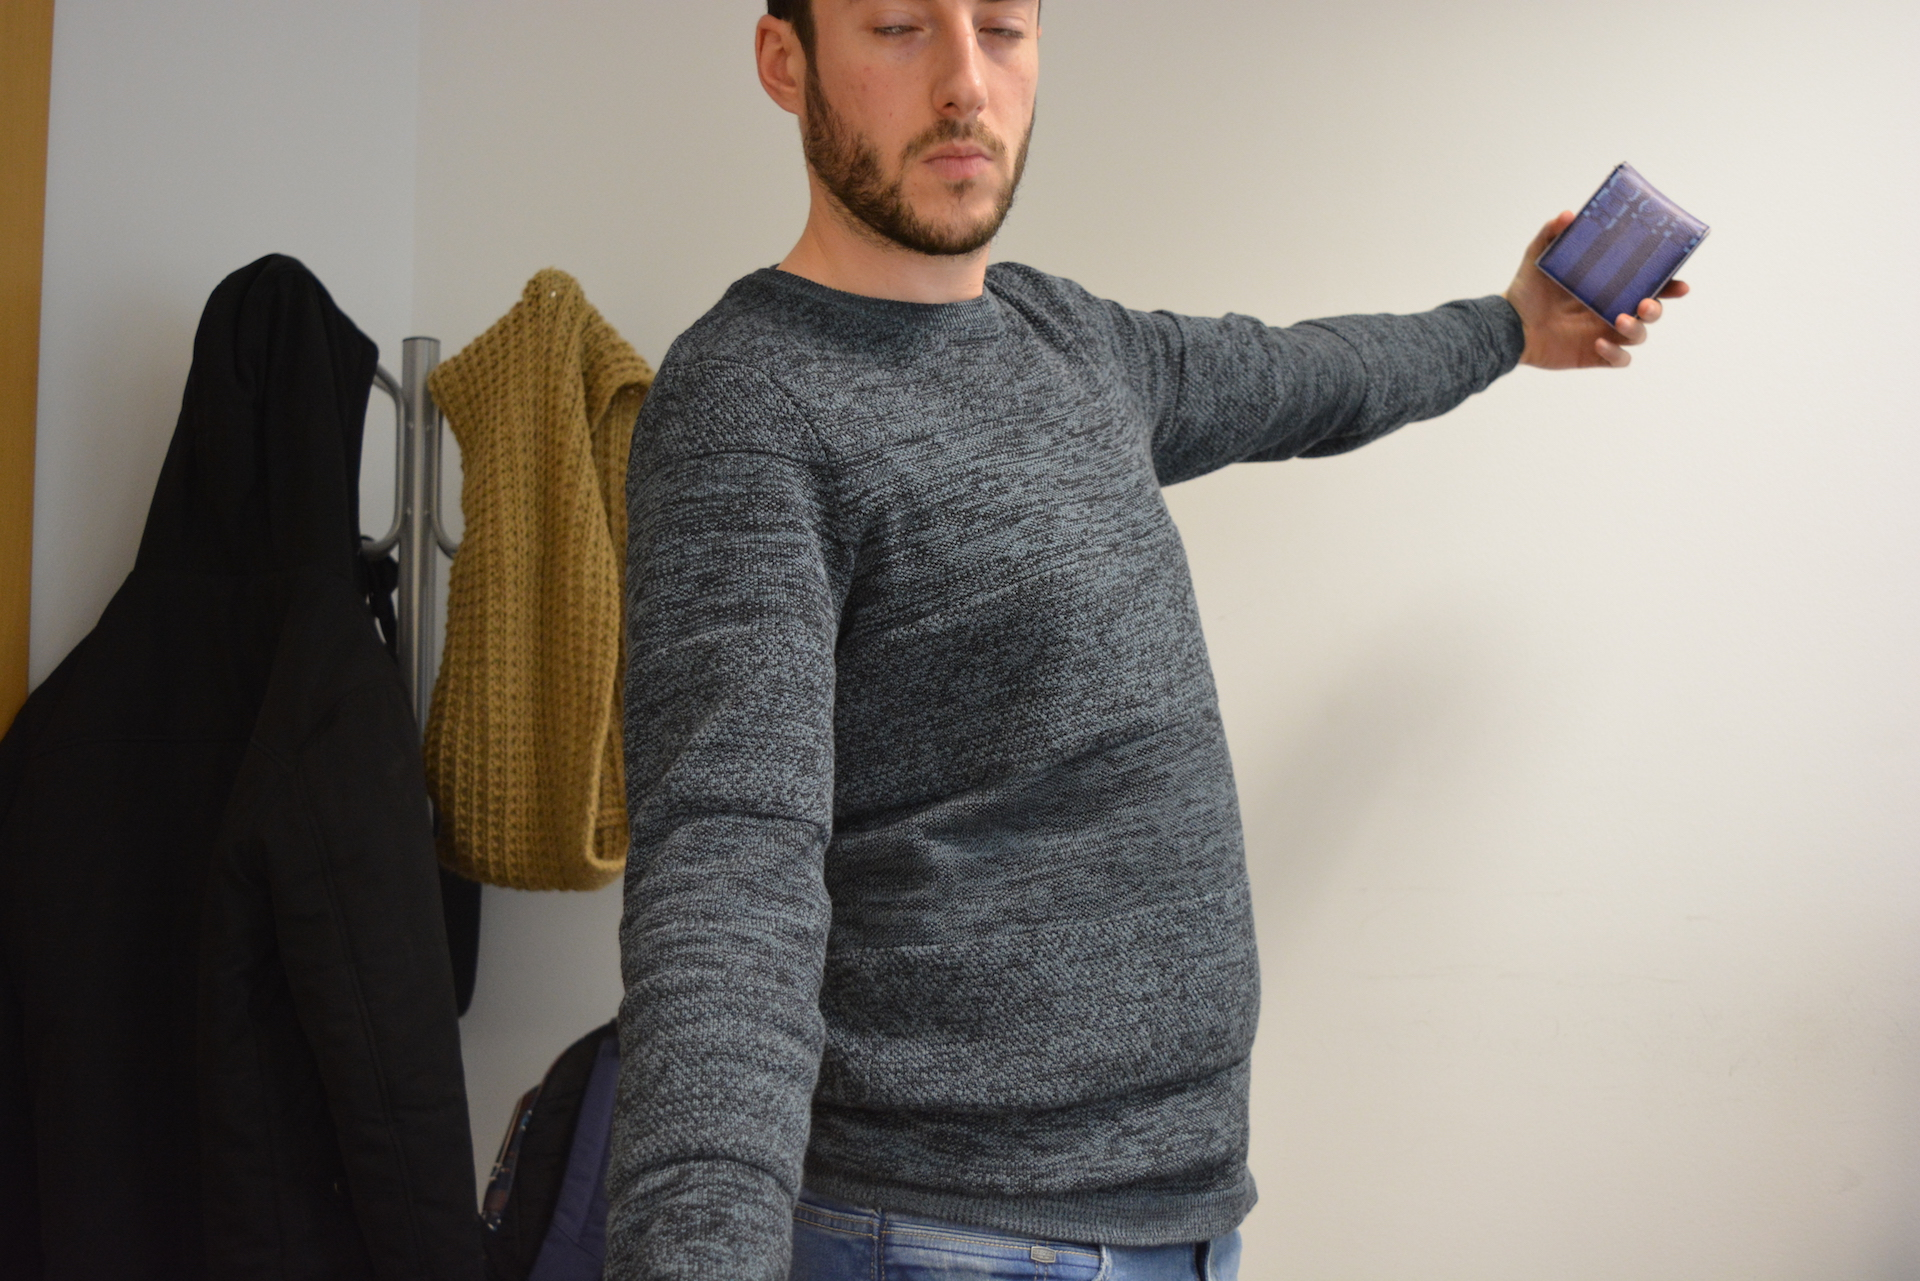monedero: (1533, 159, 1713, 335)
